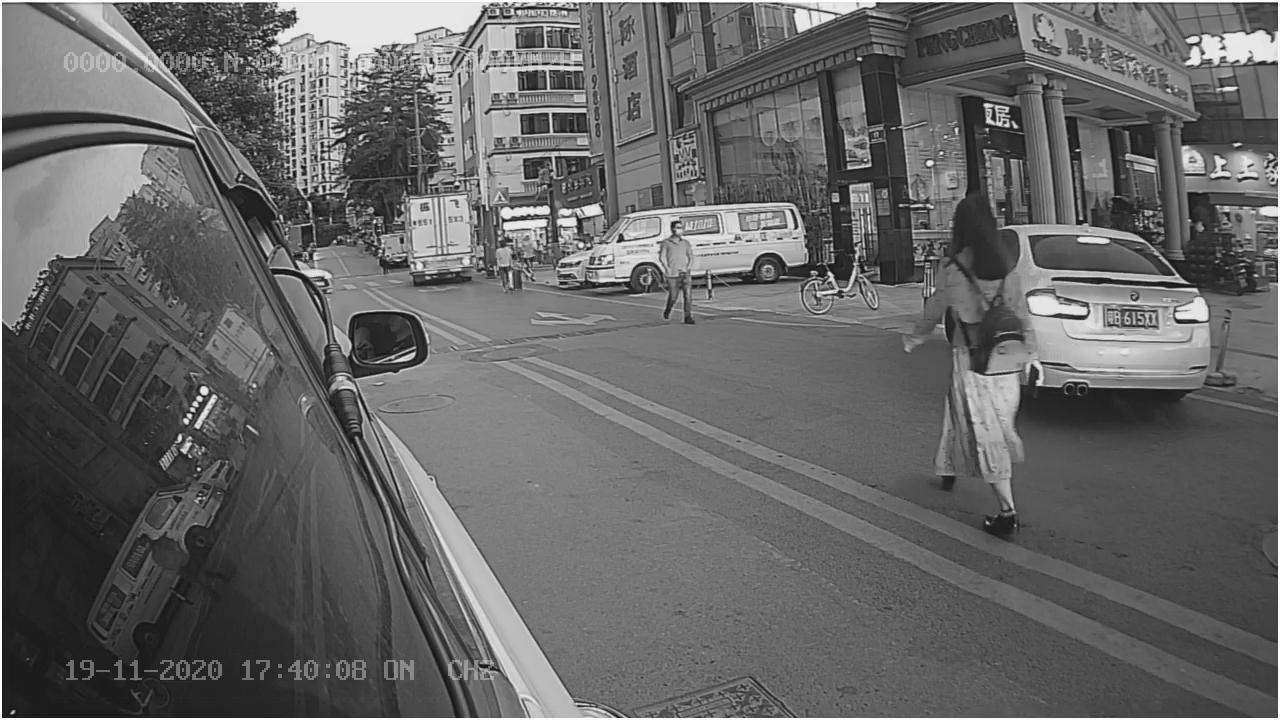person: (900, 192, 1038, 535)
